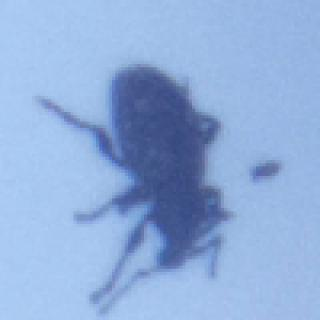bvw: (29, 62, 234, 316)
